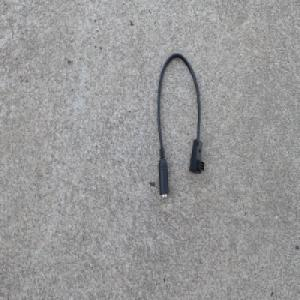Wire: (155, 50, 206, 200)
